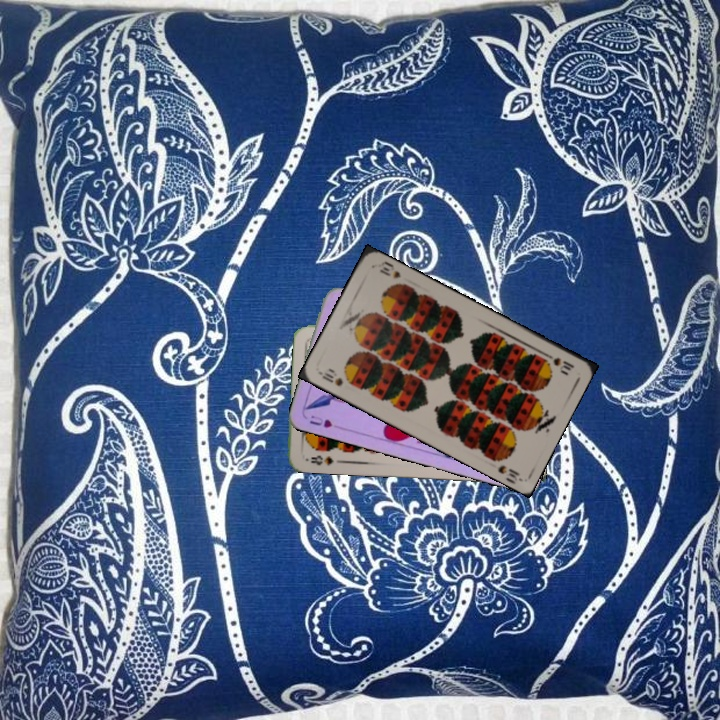HU: (305, 411, 335, 431)
S10: (540, 348, 577, 376), (316, 365, 346, 389)
S8: (307, 451, 336, 468)
